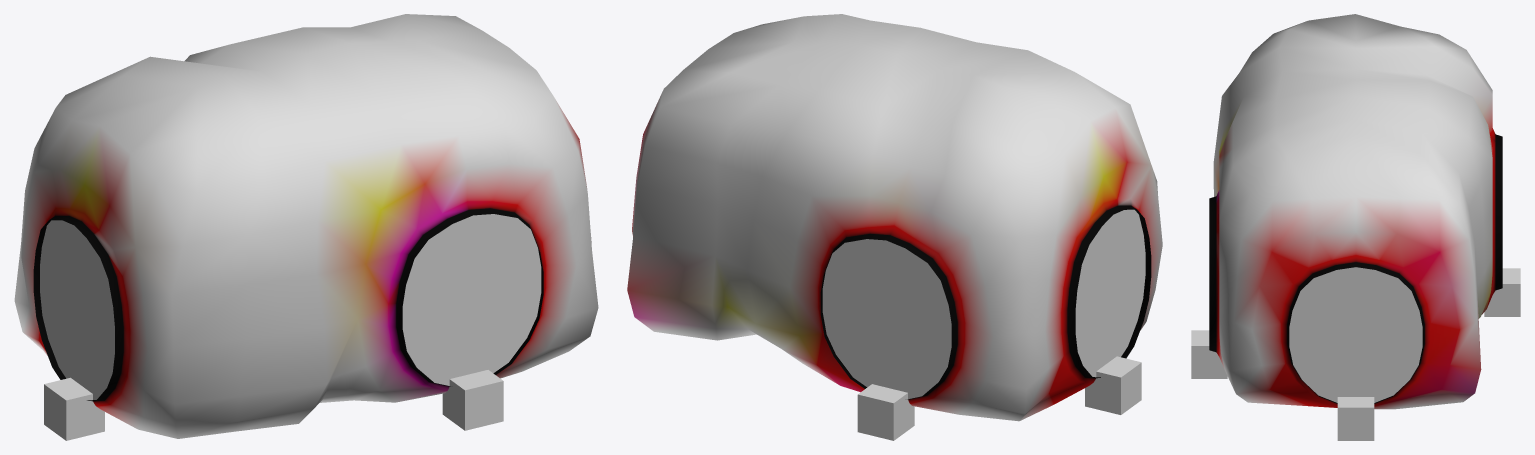
File: CorridorMedium.FBX
3 views of the same model, side by side, from view 1: azimuth 30°, elevation 25°; view 2: azimuth 150°, elevation 25°; view 3: azimuth 270°, elevation 25° (orthographic). The views are drawn at different scales.
Visible parts, largest first — view 1: CoridorMedium_walls, CoridorMedium_Door4, CoridorMedium_Door3, CoridorMedium_DoorSnap4, CoridorMedium_DoorSnap3; view 2: CoridorMedium_walls, CoridorMedium_Door2, CoridorMedium_Door3, CoridorMedium_DoorSnap2, CoridorMedium_DoorSnap3; view 3: CoridorMedium_walls, CoridorMedium_Door1, CoridorMedium_DoorSnap1, CoridorMedium_DoorSnap2, CoridorMedium_DoorSnap4.
Part boxes in pixels (left/top/right/bottom): CoridorMedium_walls: left=14, top=14, right=598, bottom=438; CoridorMedium_Door4: left=402, top=214, right=541, bottom=385; CoridorMedium_Door3: left=40, top=220, right=114, bottom=399; CoridorMedium_DoorSnap4: left=442, top=370, right=503, bottom=430; CoridorMedium_DoorSnap3: left=44, top=377, right=104, bottom=440; CoridorMedium_walls: left=627, top=14, right=1162, bottom=421; CoridorMedium_Door2: left=822, top=239, right=951, bottom=399; CoridorMedium_Door3: left=1075, top=209, right=1145, bottom=377; CoridorMedium_DoorSnap2: left=857, top=384, right=914, bottom=440; CoridorMedium_DoorSnap3: left=1085, top=356, right=1141, bottom=414; CoridorMedium_walls: left=1209, top=14, right=1502, bottom=409; CoridorMedium_Door1: left=1289, top=267, right=1422, bottom=402; CoridorMedium_DoorSnap1: left=1337, top=397, right=1374, bottom=440; CoridorMedium_DoorSnap2: left=1484, top=268, right=1520, bottom=316; CoridorMedium_DoorSnap4: left=1191, top=330, right=1227, bottom=378.
Bounding box in the file's own units: 1300 × 785 × 900.
